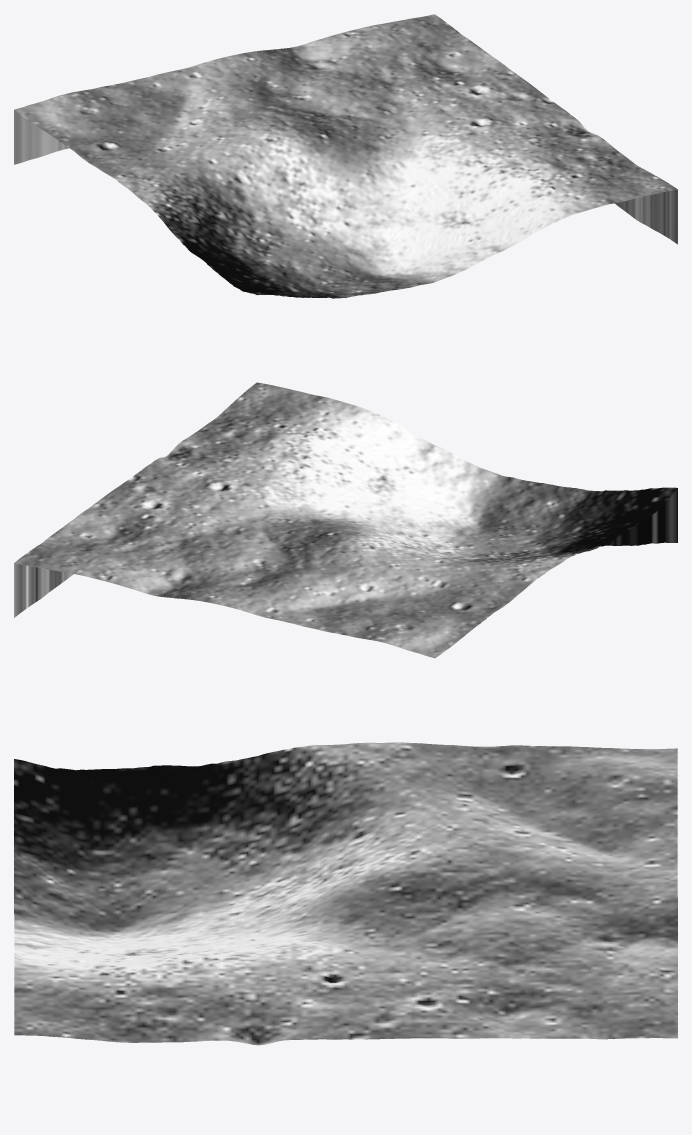
3 renders of one model, top to bottom at view 1: azimuth 30°, elevation 25°; view 2: azimuth 150°, elevation 25°; view 3: azimuth 270°, elevation 25°, orthographic. The views are drawn at different scales.
Bounding box in the file's own units: 639 × 142 × 639.
Materials: 1 (1 with a texture image).
